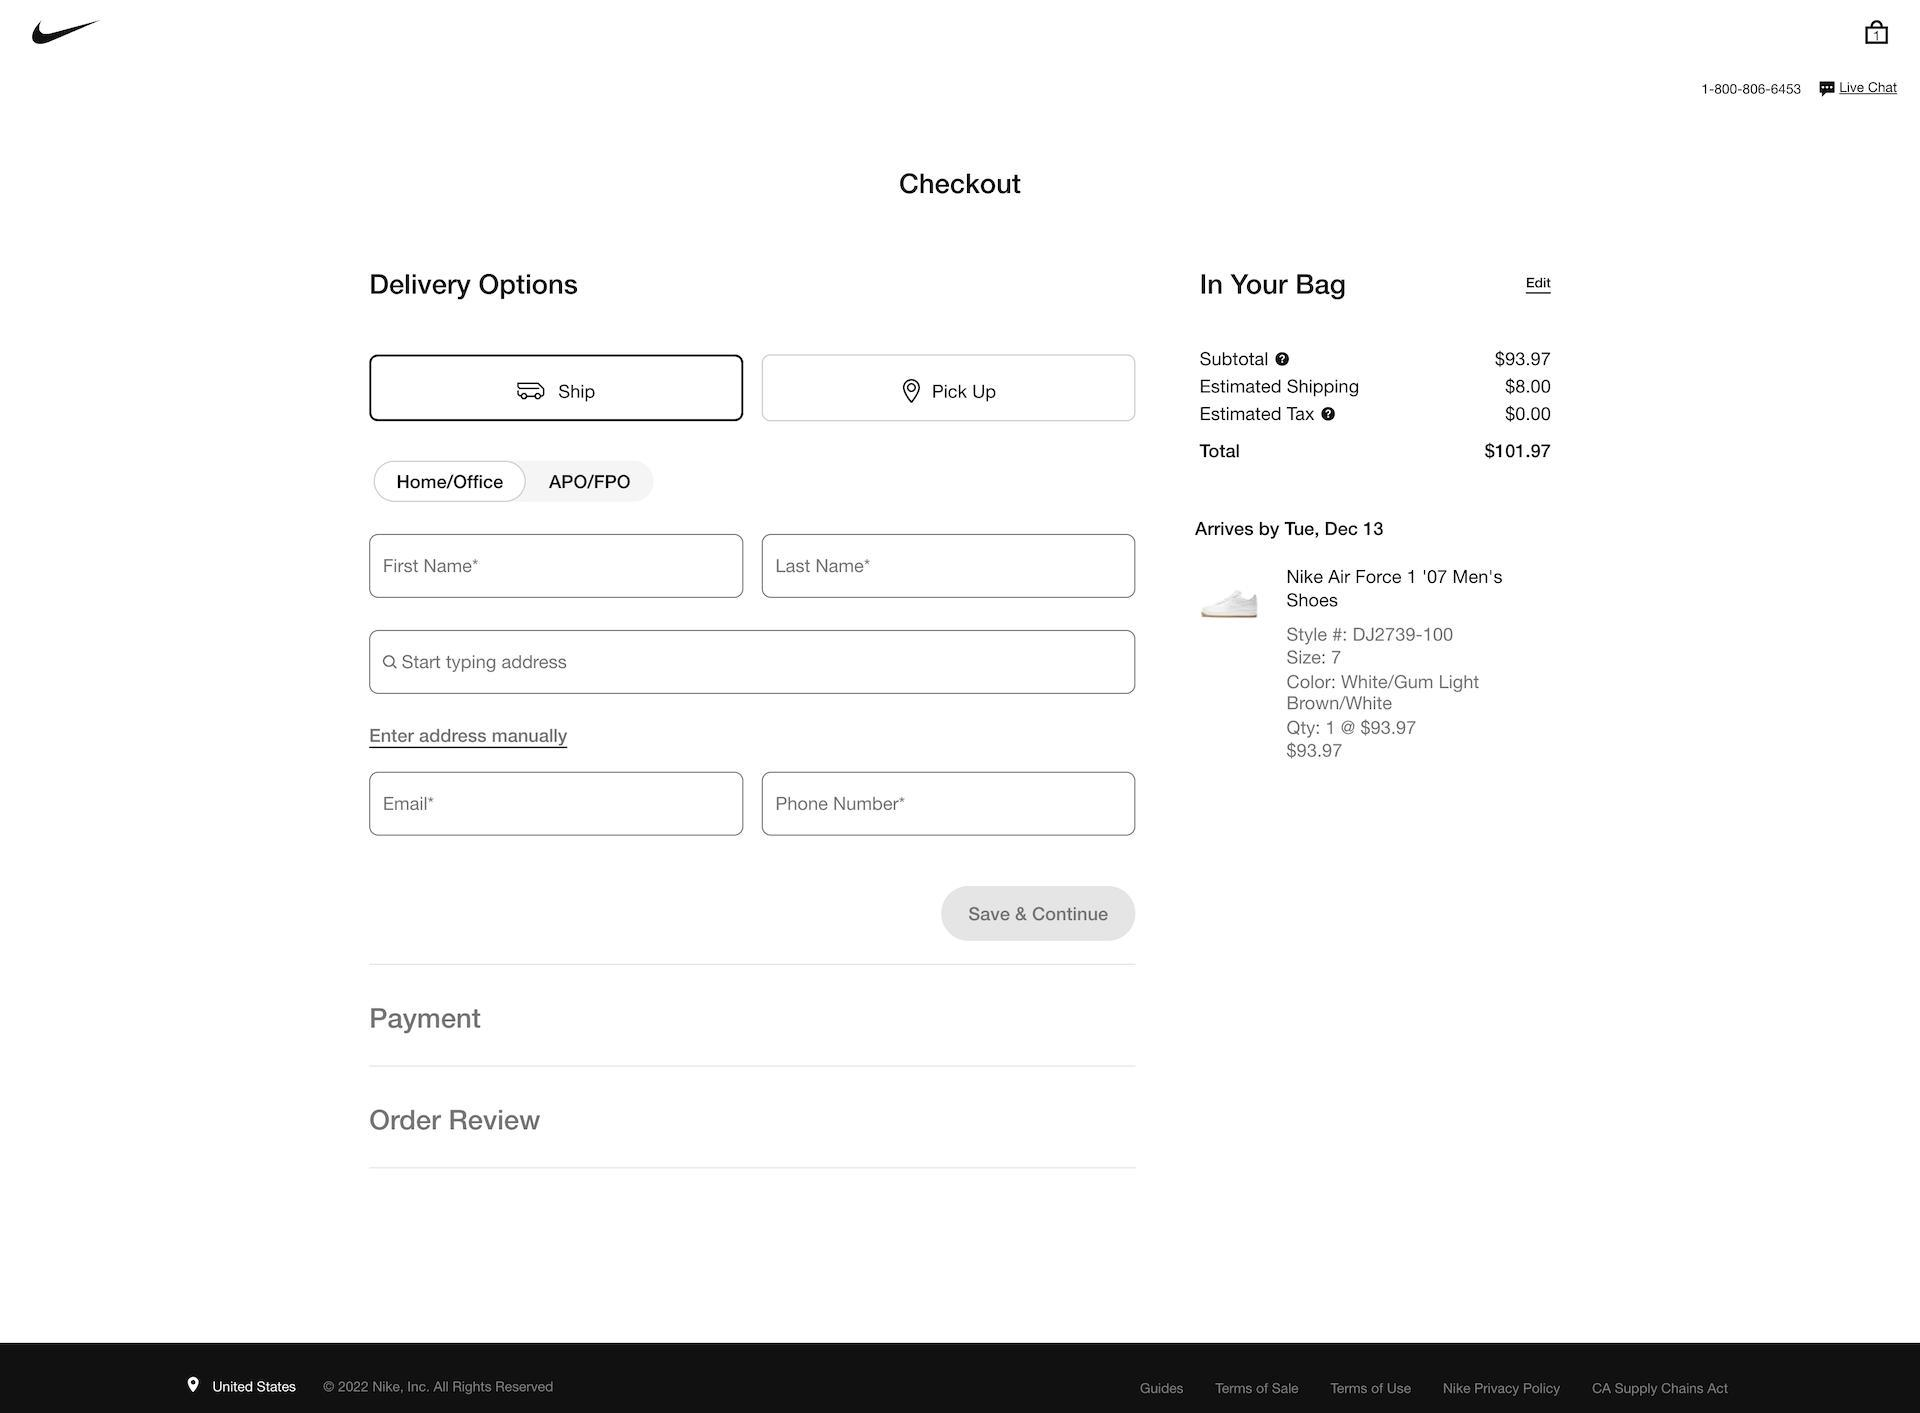button: (763, 352, 1137, 425), (373, 355, 738, 425)
input: (364, 630, 1139, 695), (367, 535, 748, 619), (763, 531, 1134, 602), (368, 772, 742, 838), (763, 772, 1134, 838), (941, 888, 1136, 946)
label: (356, 256, 584, 312), (367, 1099, 555, 1145), (356, 999, 496, 1046), (891, 161, 1029, 206)
radio: (379, 461, 525, 504), (528, 464, 660, 507)
